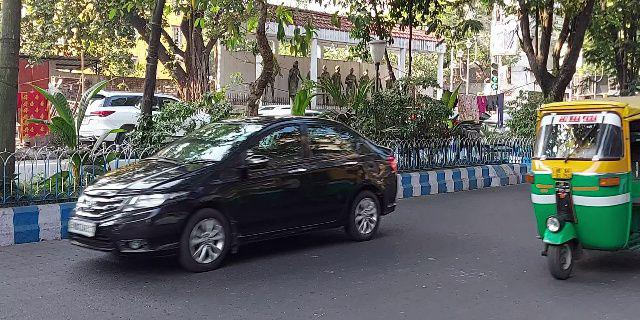Autorickshaw: (525, 97, 640, 283)
Car: (66, 111, 399, 272)
